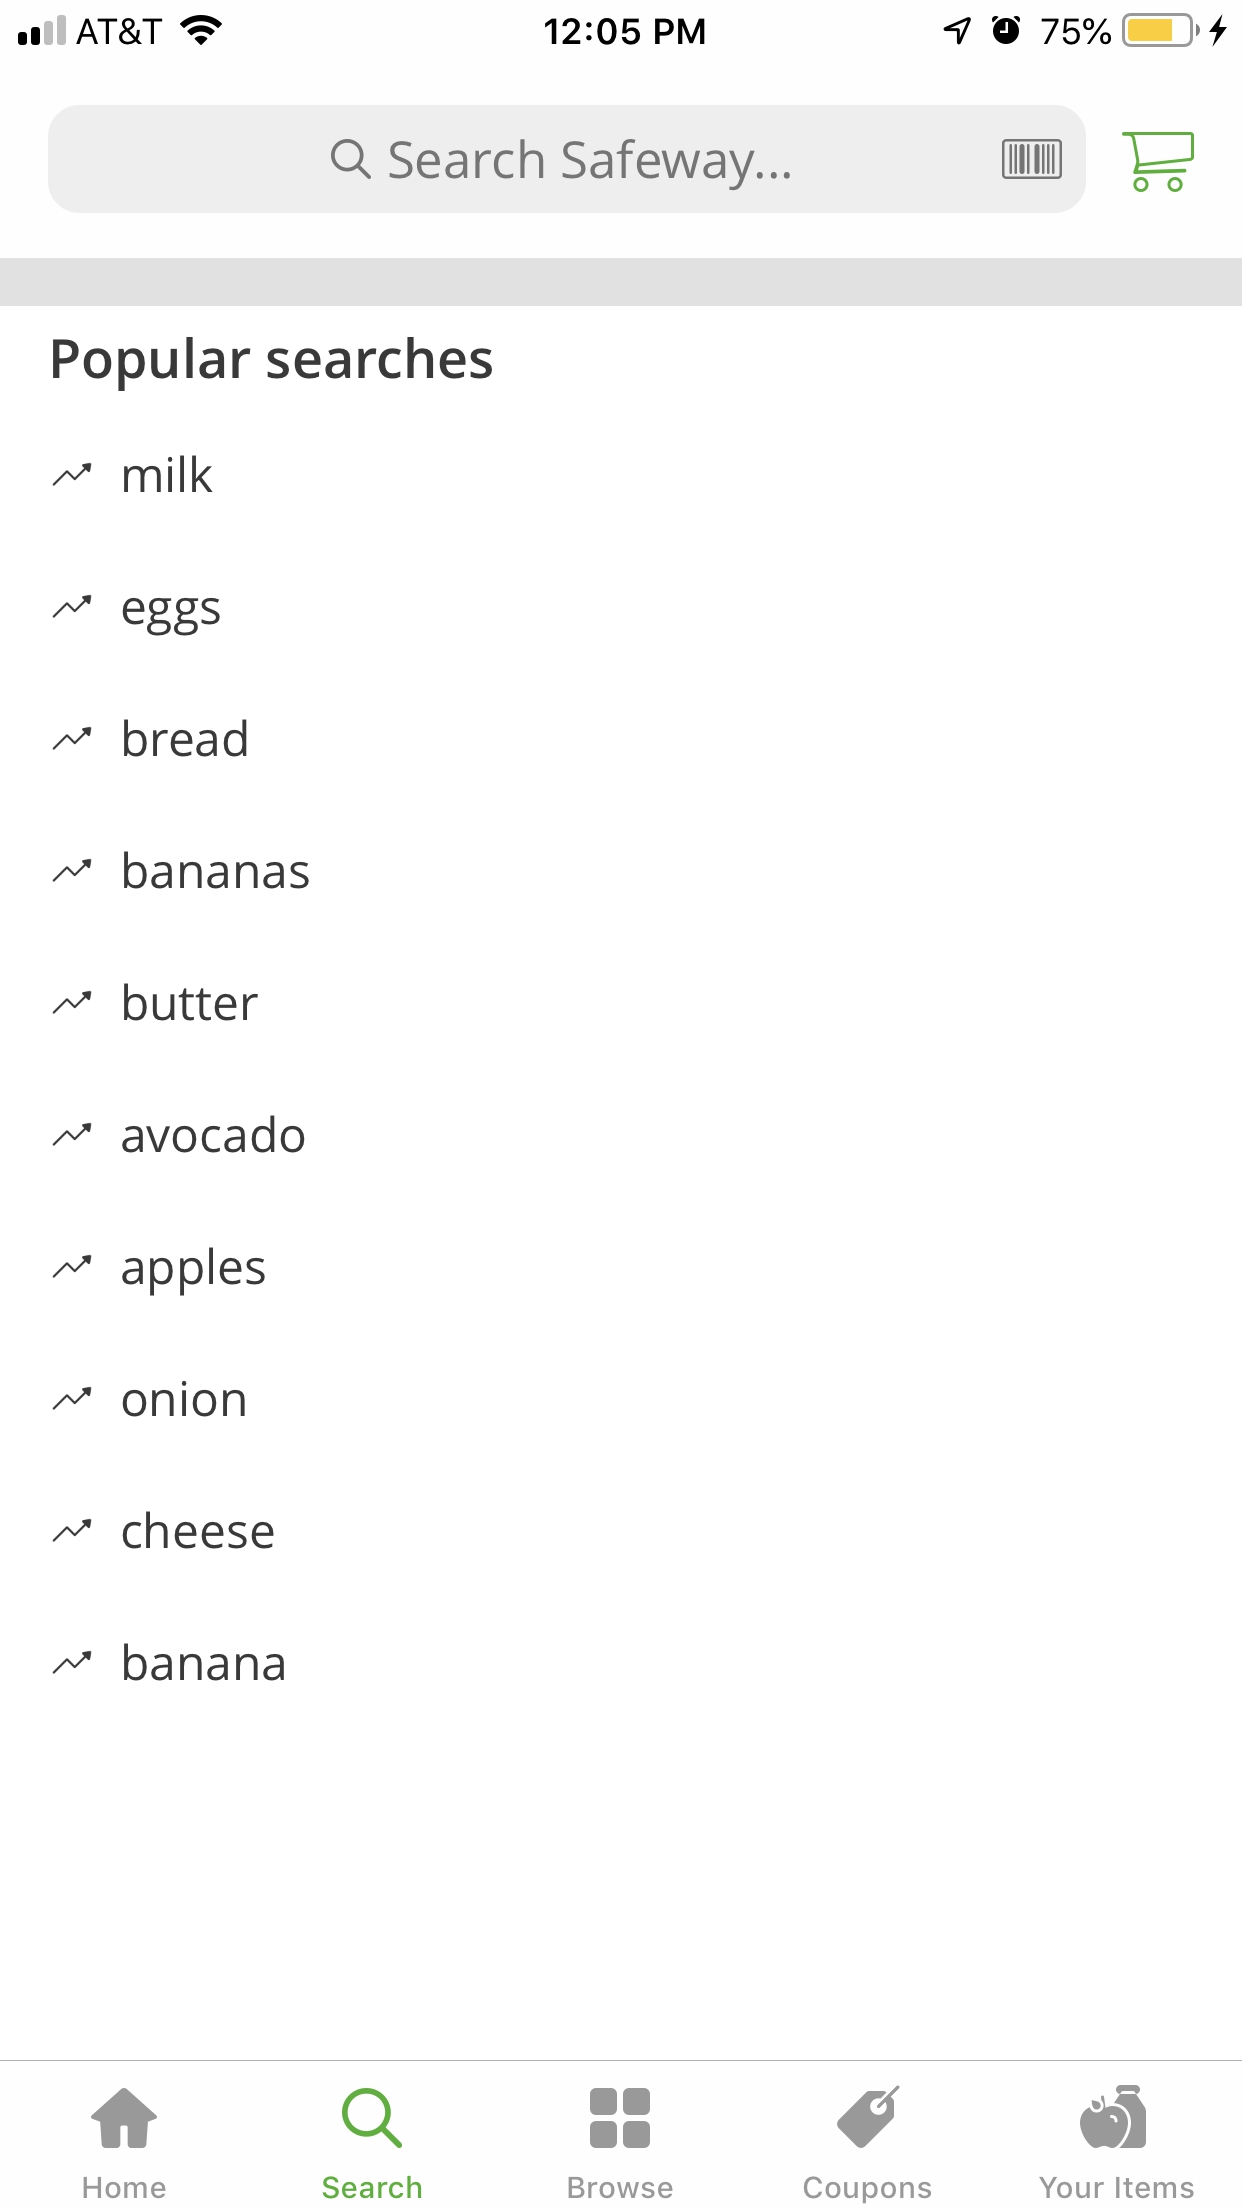EditText: (49, 105, 1086, 214)
Icon: (1121, 132, 1193, 193), (836, 2084, 901, 2149), (93, 2087, 159, 2149), (343, 2087, 403, 2149), (590, 2087, 651, 2149), (331, 140, 372, 180), (53, 463, 93, 488), (53, 858, 93, 884), (52, 726, 93, 751), (53, 594, 93, 619), (53, 990, 93, 1015), (53, 1122, 93, 1146), (53, 1254, 93, 1278), (53, 1386, 93, 1410), (53, 1518, 93, 1542), (53, 1651, 93, 1676)
Image: (1080, 2084, 1146, 2149), (1001, 140, 1062, 180)
Text: (53, 337, 493, 391), (390, 140, 792, 193), (124, 851, 309, 890), (121, 1115, 306, 1154), (121, 1247, 265, 1297), (124, 1642, 285, 1682), (123, 1510, 274, 1550), (124, 983, 259, 1022), (124, 720, 249, 760), (123, 1380, 247, 1418), (123, 597, 221, 637), (1039, 2175, 1195, 2199), (804, 2175, 933, 2203), (124, 456, 214, 494), (323, 2175, 423, 2199), (569, 2176, 673, 2199), (83, 2176, 167, 2199)
UpperTaskBar: (2, 2, 1242, 49)
